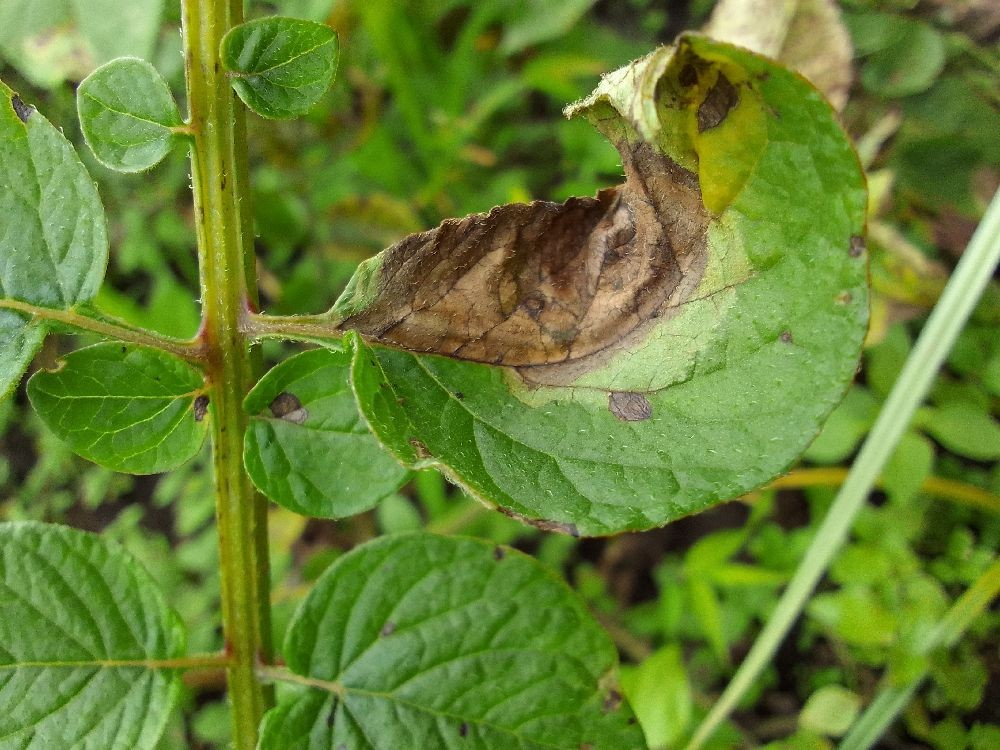late_blight: (152, 0, 999, 435), (526, 415, 888, 712), (0, 371, 243, 581), (850, 612, 1000, 750)
